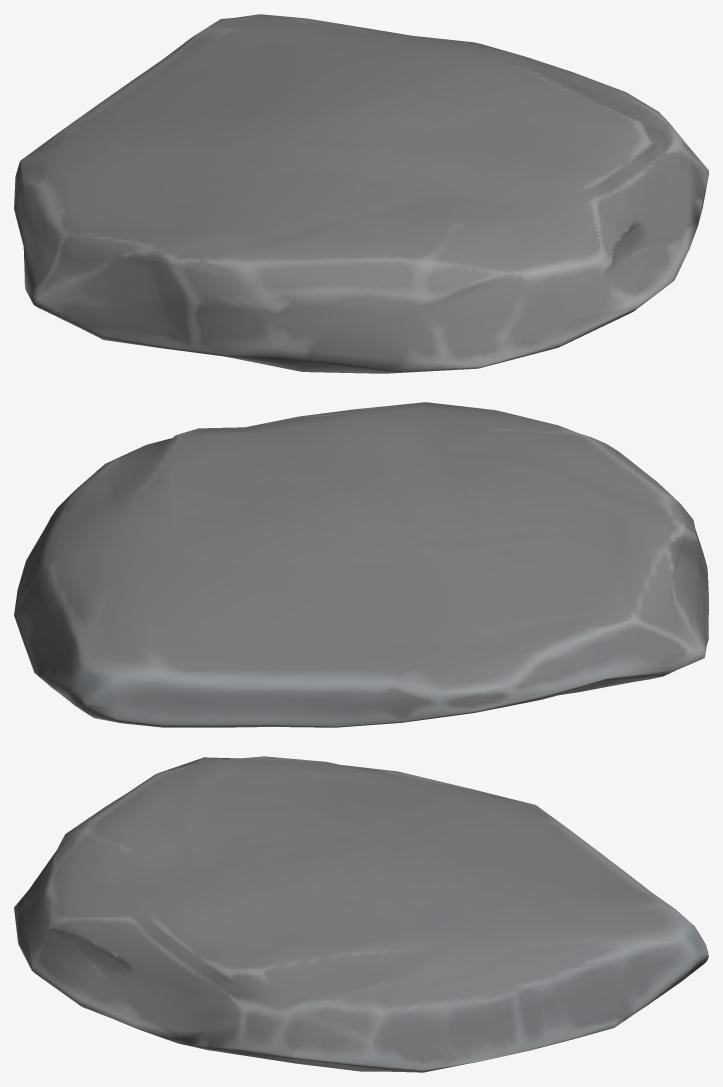
The model's file is rock_small_003.fbx.
3 renders of one model, top to bottom at view 1: azimuth 30°, elevation 25°; view 2: azimuth 150°, elevation 25°; view 3: azimuth 270°, elevation 25°, orthographic. The views are drawn at different scales.
Parts seen in each view (by area): view 1: rock_small_003; view 2: rock_small_003; view 3: rock_small_003.
Boxes of the visible parts, box(x1,y1,x2,y2) form: rock_small_003: box(14, 14, 708, 373); rock_small_003: box(14, 402, 708, 727); rock_small_003: box(14, 756, 708, 1072).
Size of the model in its own units: 3.12 by 0.5008 by 3.25.
